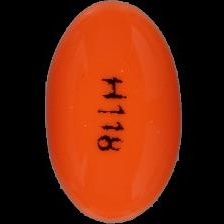0179-0196: (0, 0, 224, 224)
